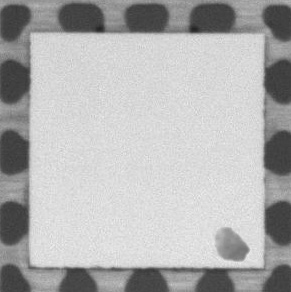DIE_INK: (211, 223, 249, 261)
